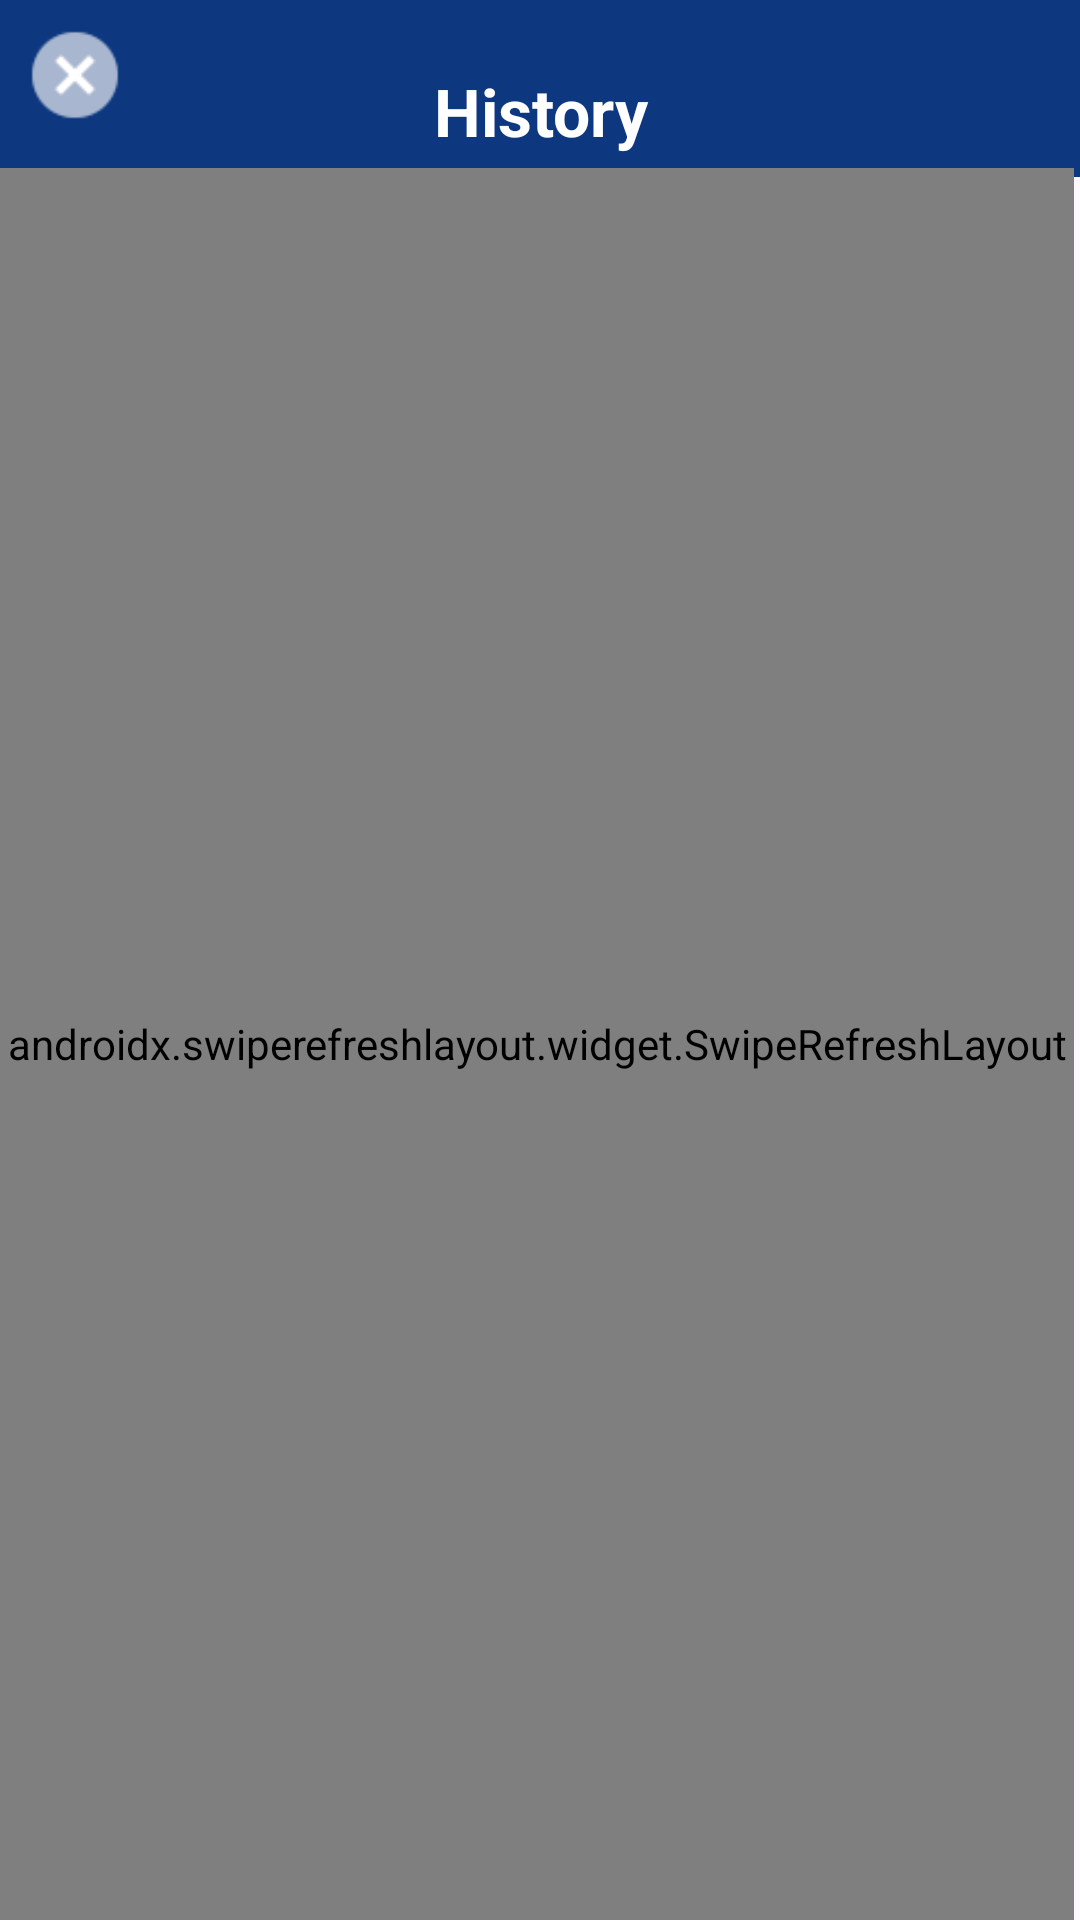

Icons on this 1080×1920 Android screen, each with the point to tap as [x,y]:
close profile: [75,75]
